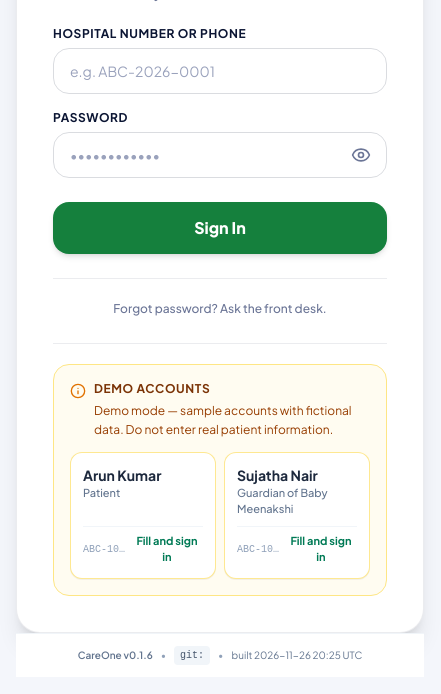
Scenario: PatientSignIn — demo card integration — demoMode: true › clicking Sujatha fill button updates username and password inputs
(page scrolled)
Expected: the text "Sujatha Nair" is shown, x1=237 y1=466 x2=318 y2=484
Click the button "Sujatha Nair Guardian of Baby Meenakshi": click(297, 491) x1=237 y1=464 x2=357 y2=518
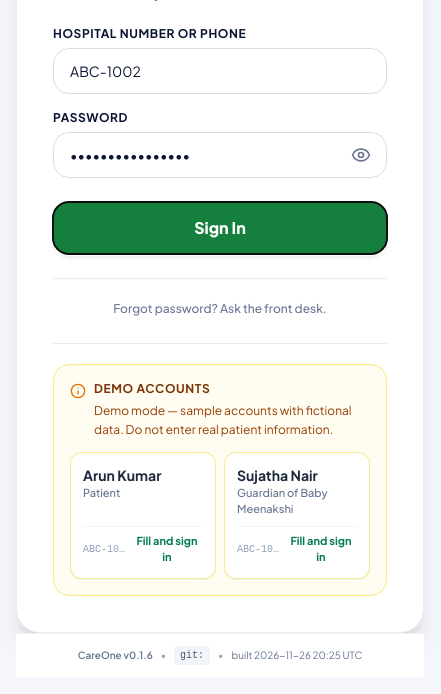
Expected: the field labelled "Hospital number or phone" holds "ABC-1002", x1=53 y1=48 x2=387 y2=94
Expected: the password field labelled "Password" holds "DemoPassword123!", x1=53 y1=132 x2=387 y2=178
